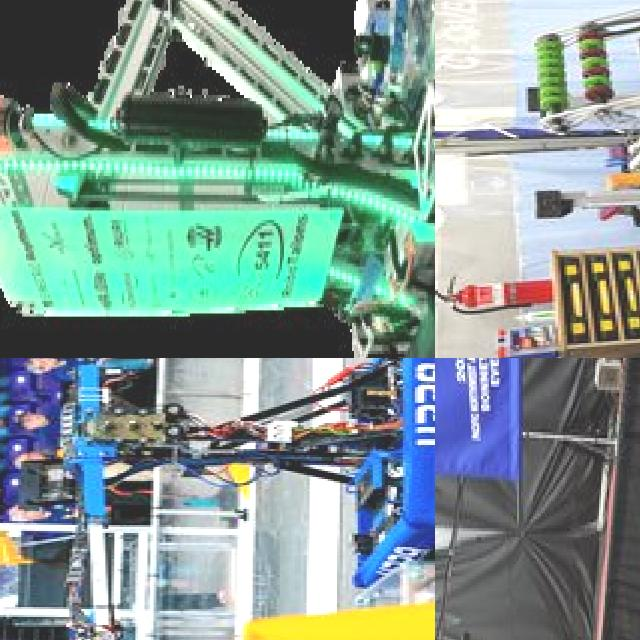FRC-Robots: (0, 0, 435, 358), (0, 358, 435, 640), (435, 0, 640, 358), (435, 359, 640, 640)
